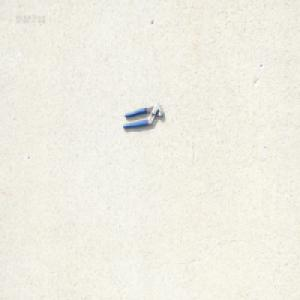Pliers: (121, 102, 165, 129)
